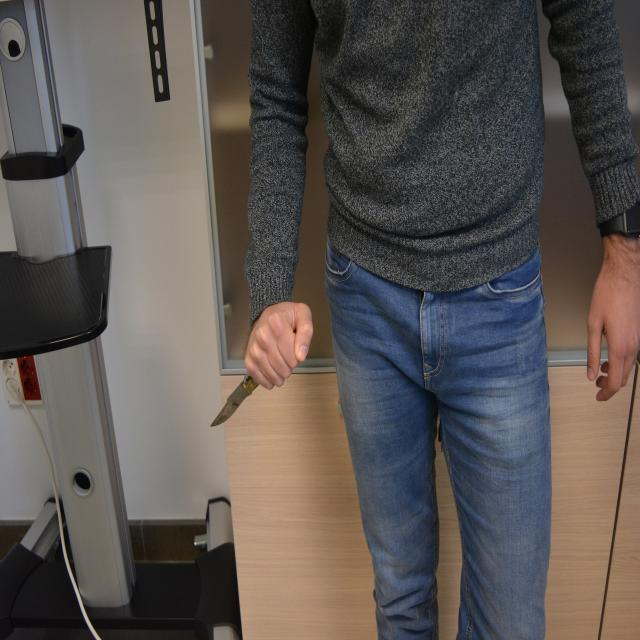knife: (209, 374, 258, 436)
